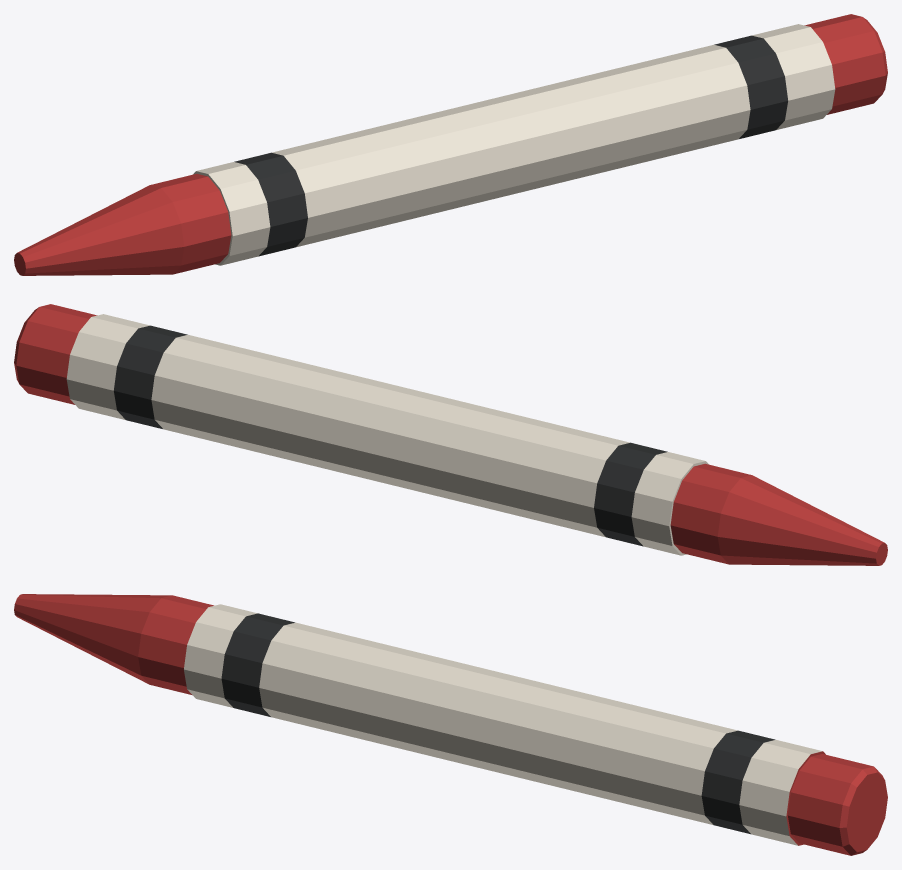
Rendered from crayon.glb.
3 renders of one model, top to bottom at view 1: azimuth 30°, elevation 25°; view 2: azimuth 150°, elevation 25°; view 3: azimuth 330°, elevation 25°, orthographic.
Visible parts, largest first — view 1: Red wax crayon with paper sleeve; view 2: Red wax crayon with paper sleeve; view 3: Red wax crayon with paper sleeve.
Part boxes in pixels (<box>): Red wax crayon with paper sleeve: <box>14,14,887,275</box>; Red wax crayon with paper sleeve: <box>14,304,887,565</box>; Red wax crayon with paper sleeve: <box>14,594,887,855</box>.
Bounding box in the file's own units: 0.09 × 0.009 × 0.009.
